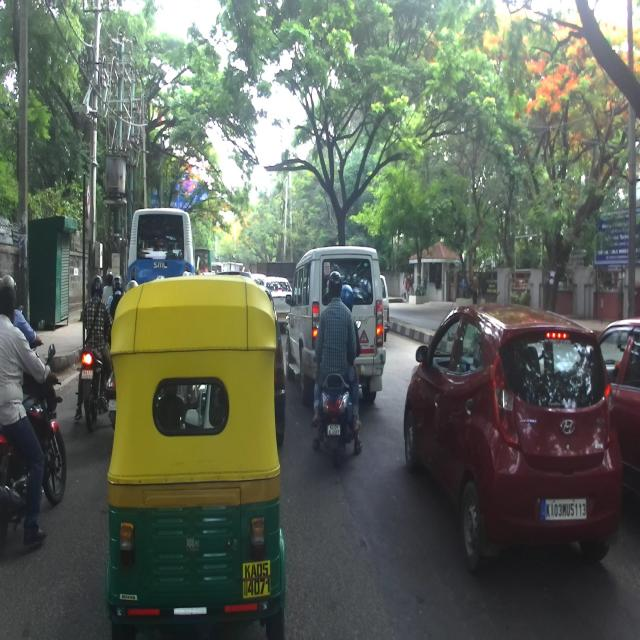Car_Hyundai: (403, 304, 623, 572)
Car_Maruti-Suzuki: (380, 274, 390, 341)
Car_TATA: (285, 244, 385, 406)
Car_Toyota: (258, 275, 293, 328)
autorickshaw: (105, 275, 286, 638)
bus: (127, 207, 196, 295), (194, 247, 212, 273)
motorcycle_Honda: (75, 324, 112, 432)
motorcycle_bajaj: (0, 343, 67, 551)
scooter: (317, 318, 362, 468)
